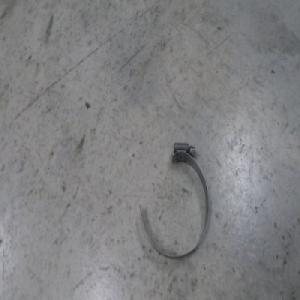AdjustableClamp: (138, 136, 208, 258)
